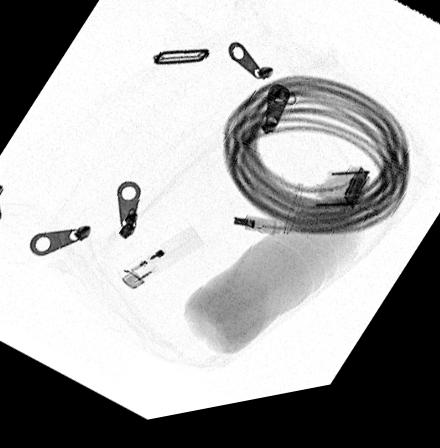Lighter: (116, 235, 202, 294)
